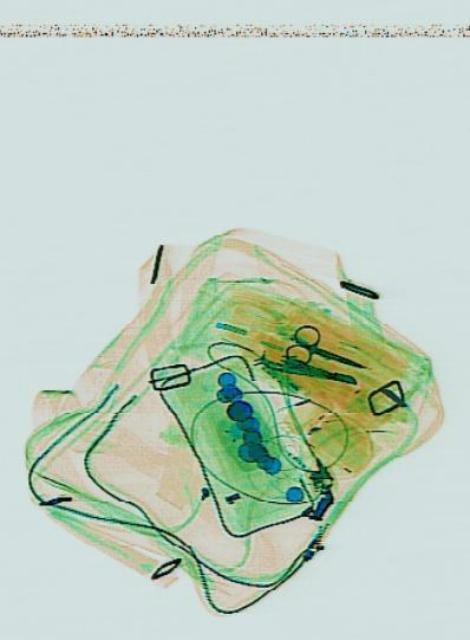Scissors: (281, 318, 368, 387)
